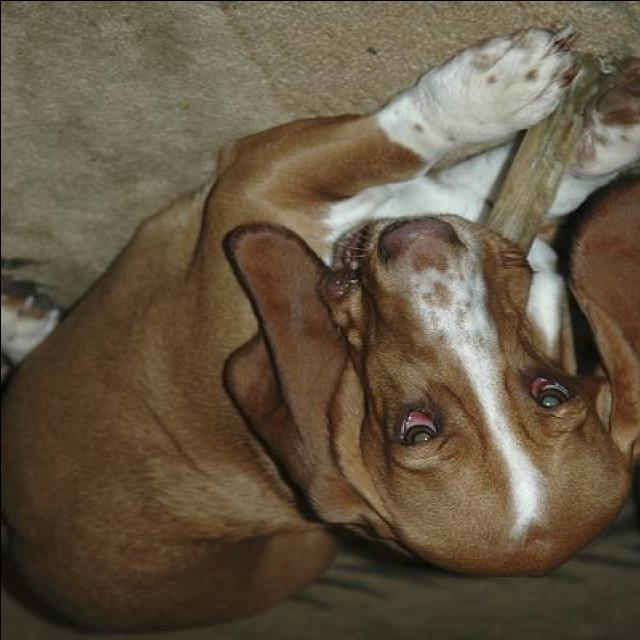basset: (3, 23, 632, 640)
